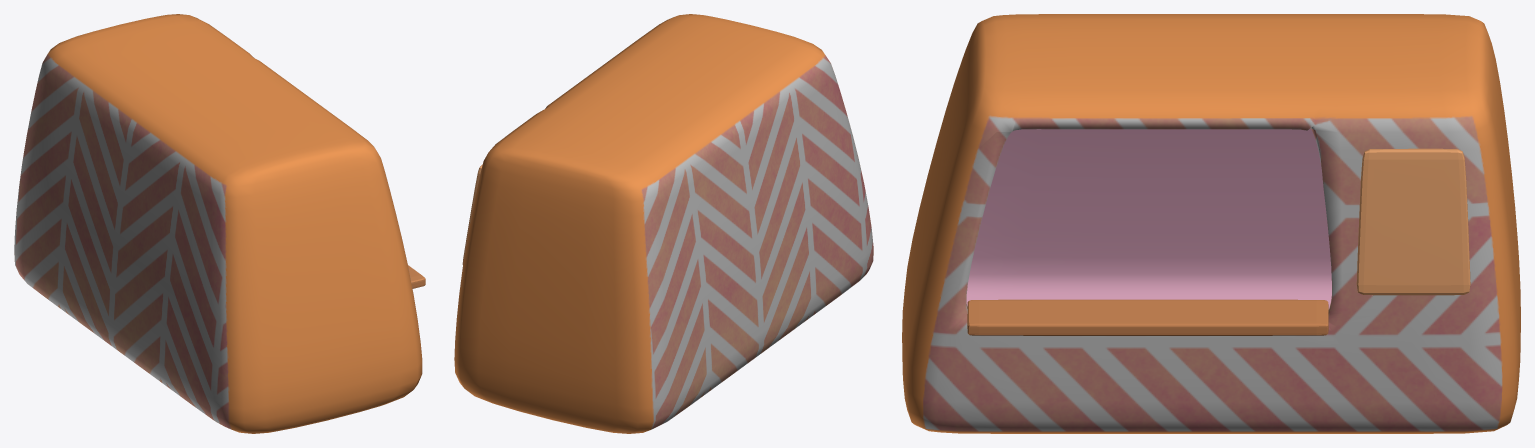
File: Booth 2-2.fbx
3 views of the same model, side by side, from view 1: azimuth 30°, elevation 25°; view 2: azimuth 150°, elevation 25°; view 3: azimuth 270°, elevation 25° (orthographic). The views are drawn at different scales.
Visible parts, largest first — view 1: Cube.007; view 2: Cube.007; view 3: Cube.007, Cube.010, Cube.
Boxes of the visible parts, x1,y1,x2,y2 form: Cube.007: (14, 14, 422, 433); Cube.007: (454, 14, 873, 433); Cube.007: (902, 14, 1520, 433); Cube.010: (1356, 148, 1470, 295); Cube: (967, 299, 1328, 335).
Bounding box in the file's own units: 1049 × 1136 × 1905.
1 material, 1 textured.
